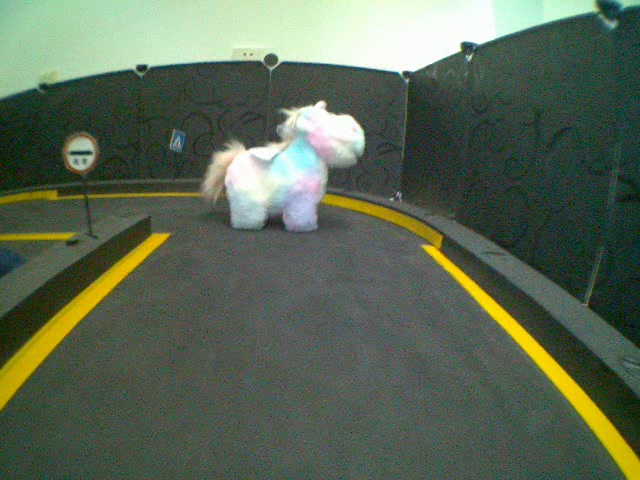unicorn: (201, 98, 368, 236)
